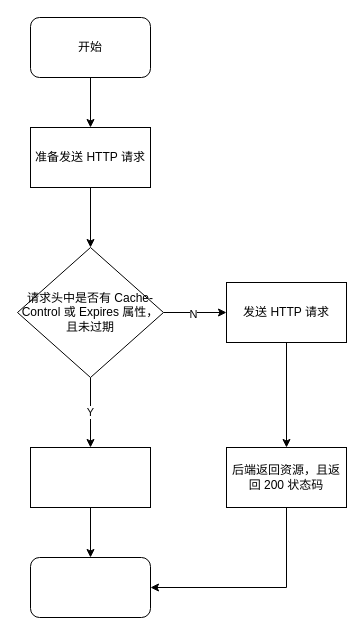
Some shapes in this 364 by 635 pixel diagram are drawn without their labels. The shapes that lost their labels are listed below. From the top down, each one's box as (x1, y1, x2, y2) in pixels, then its label:
(30, 446, 150, 508): 从缓存读取资源，且返回 200 状态码
(30, 556, 150, 618): 结束
